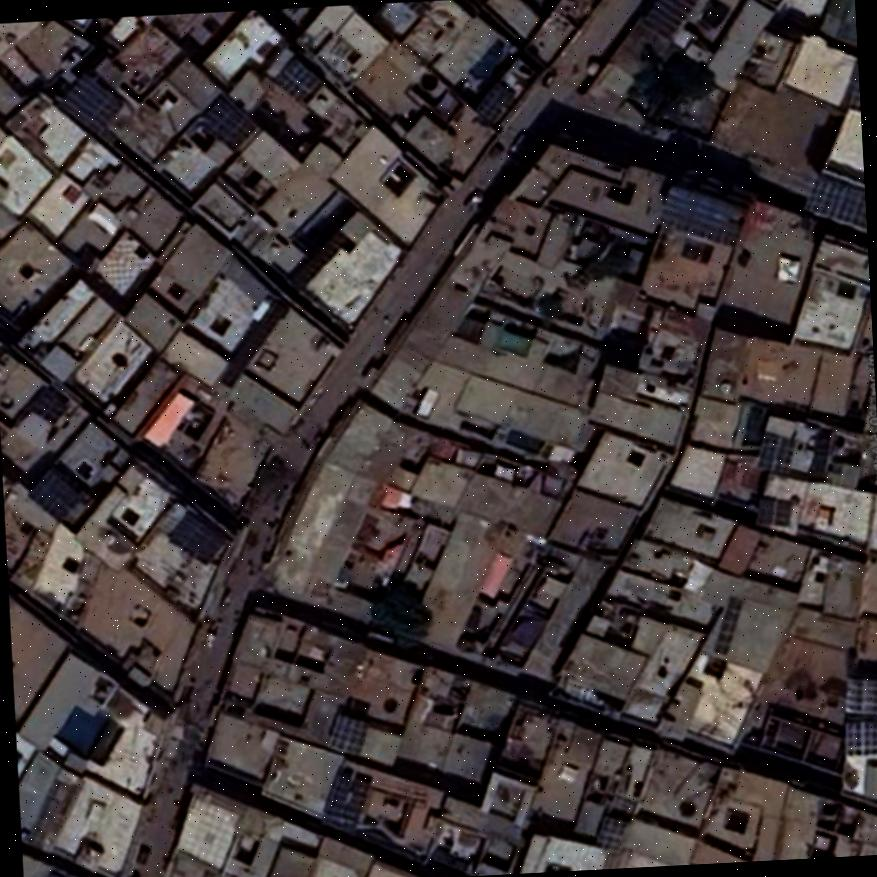Solarpanel: (55, 70, 119, 134), (804, 172, 865, 232), (200, 95, 257, 154), (169, 510, 226, 563), (27, 466, 80, 519), (641, 0, 698, 37), (276, 56, 322, 101), (324, 774, 367, 822), (756, 430, 796, 470), (328, 714, 368, 752), (841, 677, 877, 715), (28, 384, 64, 422), (597, 816, 627, 851), (755, 496, 788, 527), (847, 719, 877, 753), (848, 69, 859, 112)
